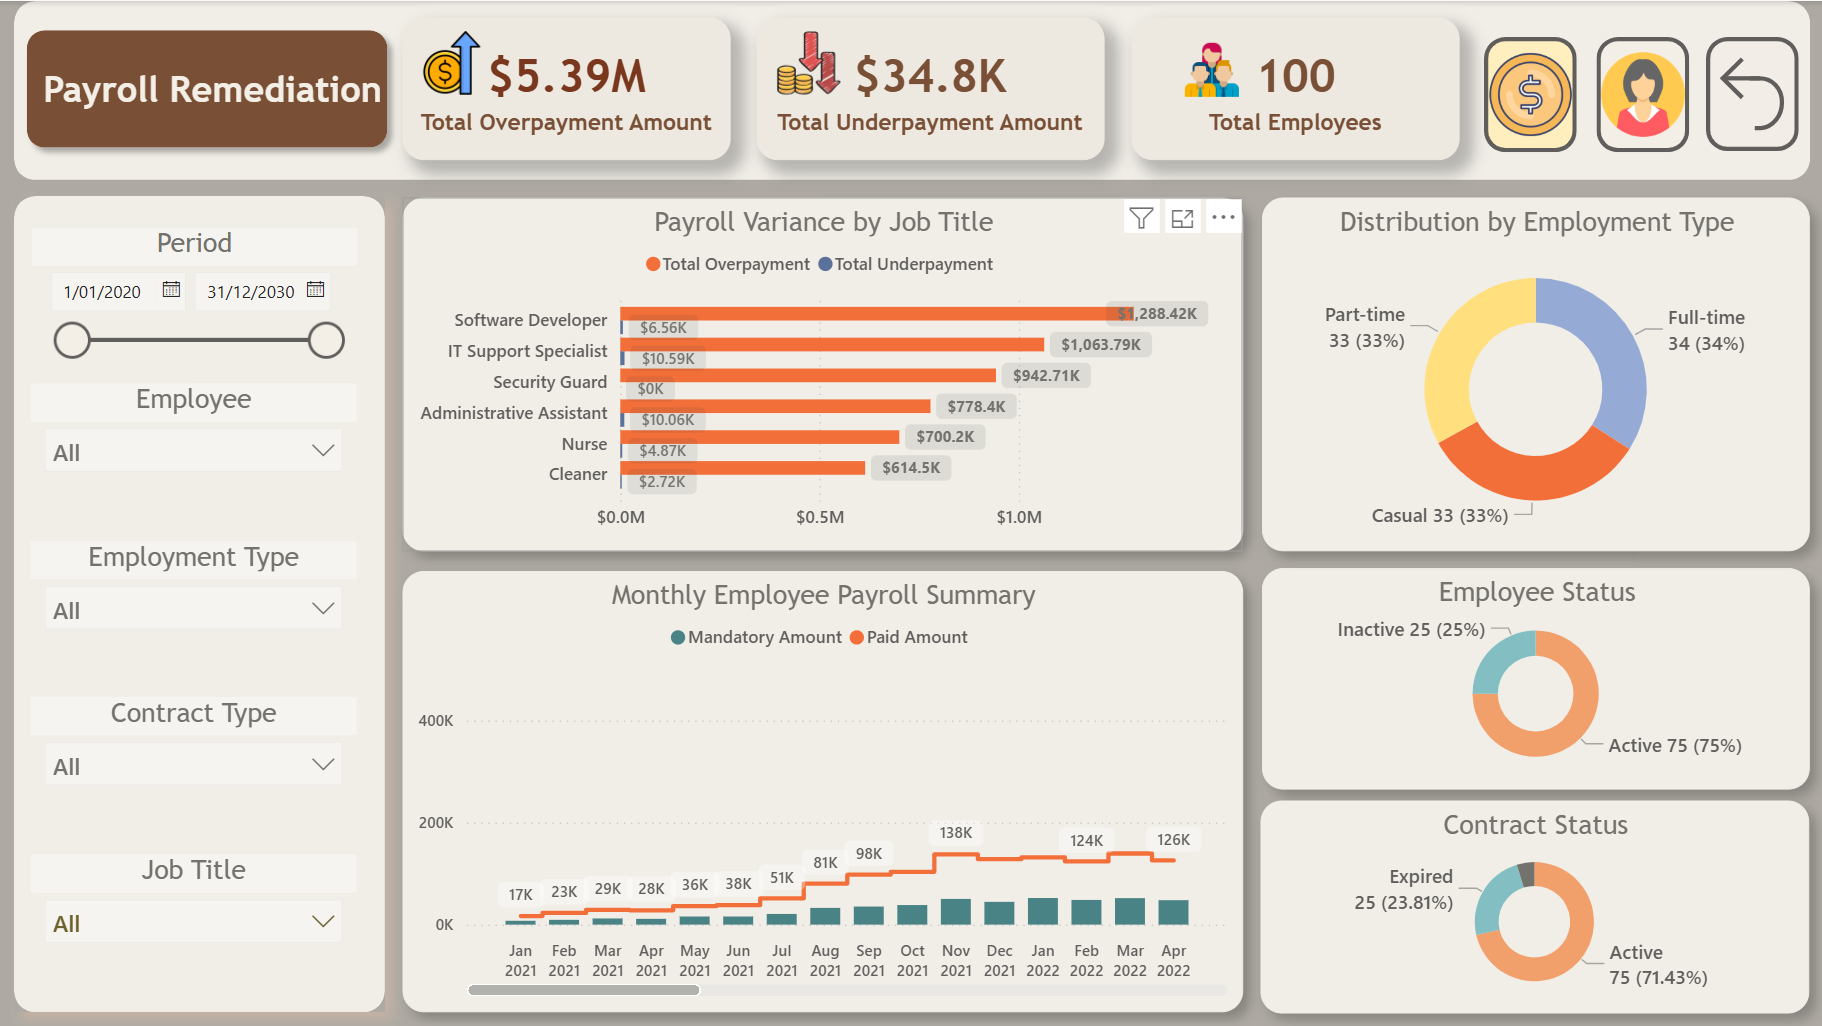

What the dashboard file says about the page in this screenshot:
{"tool":"powerbi","page":{"name":"Payroll Remediation","canvas":[1280,720],"ordinal":0},"visuals":[{"type":"lineStackedColumnComboChart","title":"Monthly Employee Payroll Summary","fields":{"Category":["dim_pay_periods.Month Year"],"Y":["Measure Table.Mandatory Amount"],"Y2":["Measure Table.Paid Amount"]},"box":[283.1,400,589.2,309.2],"z":0},{"type":"clusteredBarChart","title":"Payroll Variance by Job Title","fields":{"Category":["dim_contracts.job_title"],"Y":["Measure Table.Total Overpayment","Measure Table.Total Underpayment"]},"box":[282.6,137.6,589.2,248.2],"z":1000},{"type":"donutChart","title":"Employee Status","fields":{"Category":["dim_employees.employee_status"],"Y":["CountNonNull(dim_employees.employee_id)"]},"box":[885.2,397.8,384.3,155.5],"z":2000},{"type":"donutChart","title":"Contract Status","fields":{"Category":["dim_contracts.contract_status"],"Y":["CountNonNull(dim_contracts.contract_id)"]},"box":[884.6,560,384.6,149.2],"z":3000},{"type":"donutChart","title":"Distribution by Employment Type","fields":{"Category":["dim_employees.current_employment_type"],"Y":["CountNonNull(dim_employees.employee_id)"]},"box":[885.2,137.6,384.3,248.2],"z":4000},{"type":"shape","box":[10.5,0,1259.1,125.6],"z":5000},{"type":"shape","box":[10.8,136.9,260,572.3],"z":6000},{"type":"card","fields":{"Values":["Measure Table.Total Overpayment"]},"box":[282.6,12,230.3,100.2],"z":7000},{"type":"card","fields":{"Values":["Measure Table.Total Underpayment"]},"box":[530.8,12,243.7,100.2],"z":8000},{"type":"card","fields":{"Values":["Count(dim_employees.employee_id)"]},"box":[794,12,230.3,100.2],"z":9000},{"type":"slicer","title":"Period","fields":{"Values":["dim_dates.date"]},"box":[23.1,158.5,227.7,103.1],"z":10000},{"type":"slicer","title":"Employee","fields":{"Values":["dim_employees.EMPLOYEE_FULL_NAME"]},"box":[22.4,268.4,228.8,90],"z":11000},{"type":"slicer","title":"Employment Type","fields":{"Values":["dim_employees.current_employment_type"]},"box":[22.4,378.3,228.8,90],"z":12000},{"type":"slicer","title":"Contract Type","fields":{"Values":["dim_employees.current_contract_type"]},"box":[22.4,488.2,228.8,90],"z":13000},{"type":"slicer","title":"Job Title","fields":{"Values":["dim_employees.current_job_title"]},"box":[22.4,598.1,228.8,90],"z":14000},{"type":"shape","box":[10.5,12,270.7,100.2],"z":15000},{"type":"actionButton","box":[1196.3,25.4,65,80],"z":16000},{"type":"actionButton","box":[1040.7,25.4,65,80.7],"z":17000},{"type":"actionButton","box":[1120,25.4,65,80.7],"z":18000},{"type":"image","box":[294.6,20.9,46.4,44.9],"z":19000},{"type":"image","box":[828.4,25.4,43.4,46.4],"z":20000},{"type":"image","box":[544.5,21,45.7,44.5],"z":21000}]}

Visuals, with their boxes in screenshot pixels (x1, y1, x2, y2), scaled from the page's 1280x720 canvas onto the 1822x1026 screenshot:
"Monthly Employee Payroll Summary" lineStackedColumnComboChart: 403/570/1242/1011
"Payroll Variance by Job Title" clusteredBarChart: 402/196/1241/550
"Employee Status" donutChart: 1260/567/1807/788
"Contract Status" donutChart: 1259/798/1807/1011
"Distribution by Employment Type" donutChart: 1260/196/1807/550
shape: 15/0/1807/179
shape: 15/195/385/1011
card - Measure Table.Total Overpayment: 402/17/730/160
card - Measure Table.Total Underpayment: 756/17/1102/160
card - Count(dim_employees.employee_id): 1130/17/1458/160
"Period" slicer: 33/226/357/373
"Employee" slicer: 32/382/358/511
"Employment Type" slicer: 32/539/358/667
"Contract Type" slicer: 32/696/358/824
"Job Title" slicer: 32/852/358/981
shape: 15/17/400/160
actionButton: 1703/36/1795/150
actionButton: 1481/36/1574/151
actionButton: 1594/36/1687/151
image: 419/30/485/94
image: 1179/36/1241/102
image: 775/30/840/93
